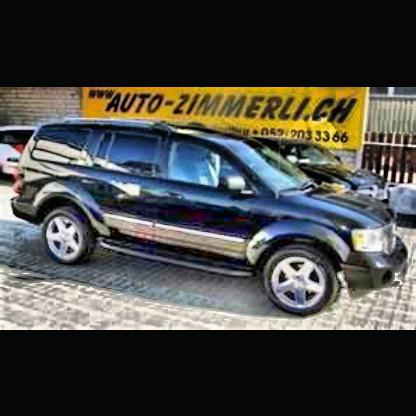Dodge Durango SUV 2007: (14, 119, 411, 319)
